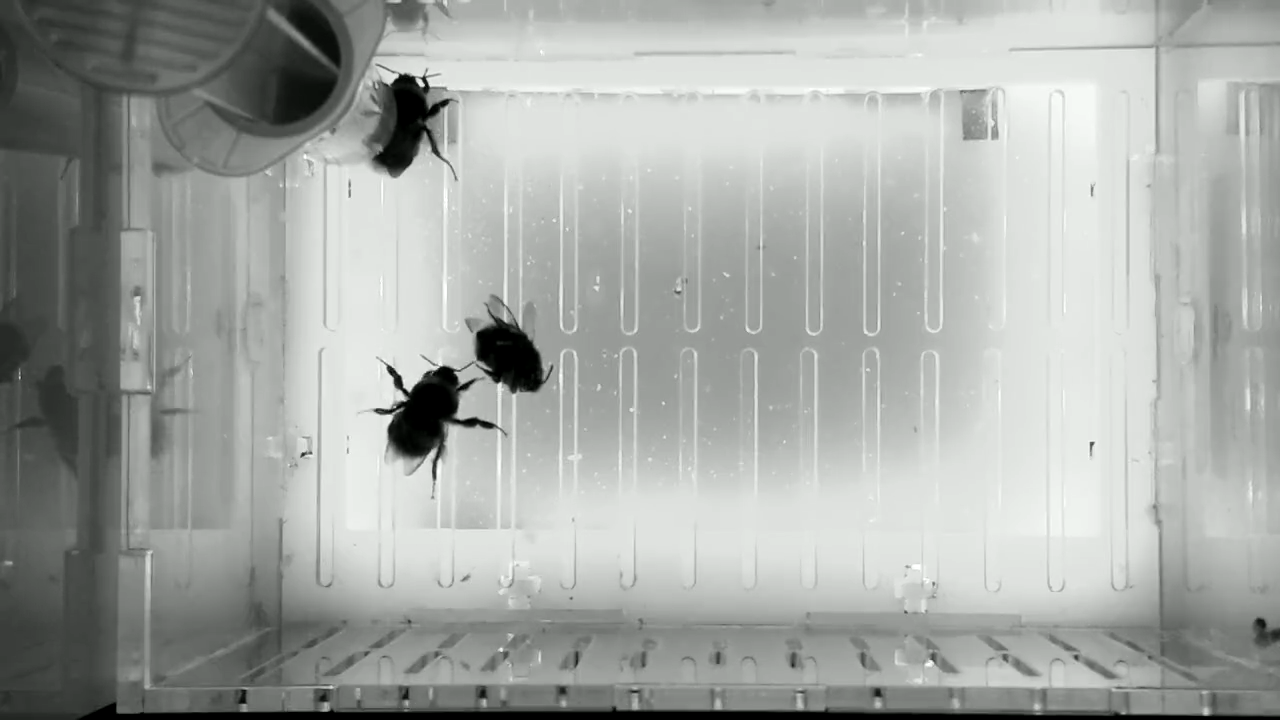bee: (355, 351, 515, 505), (366, 59, 471, 190), (455, 288, 561, 400)
feeder: (304, 58, 398, 174)
